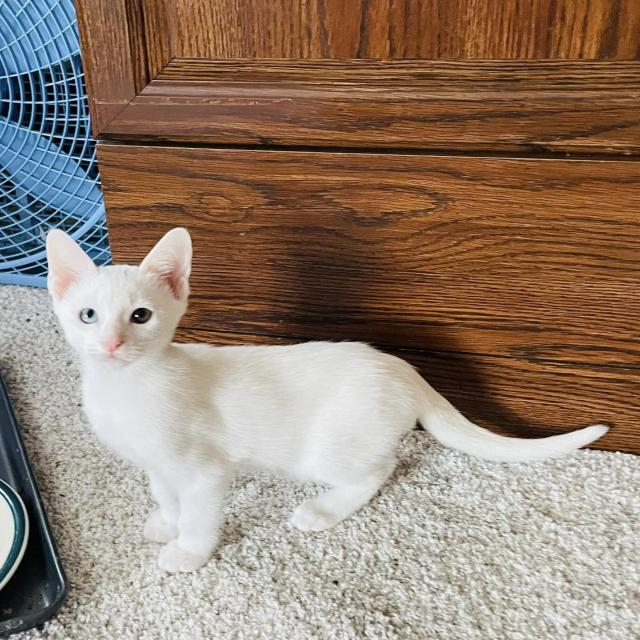Khao Manee: (41, 222, 614, 578)
